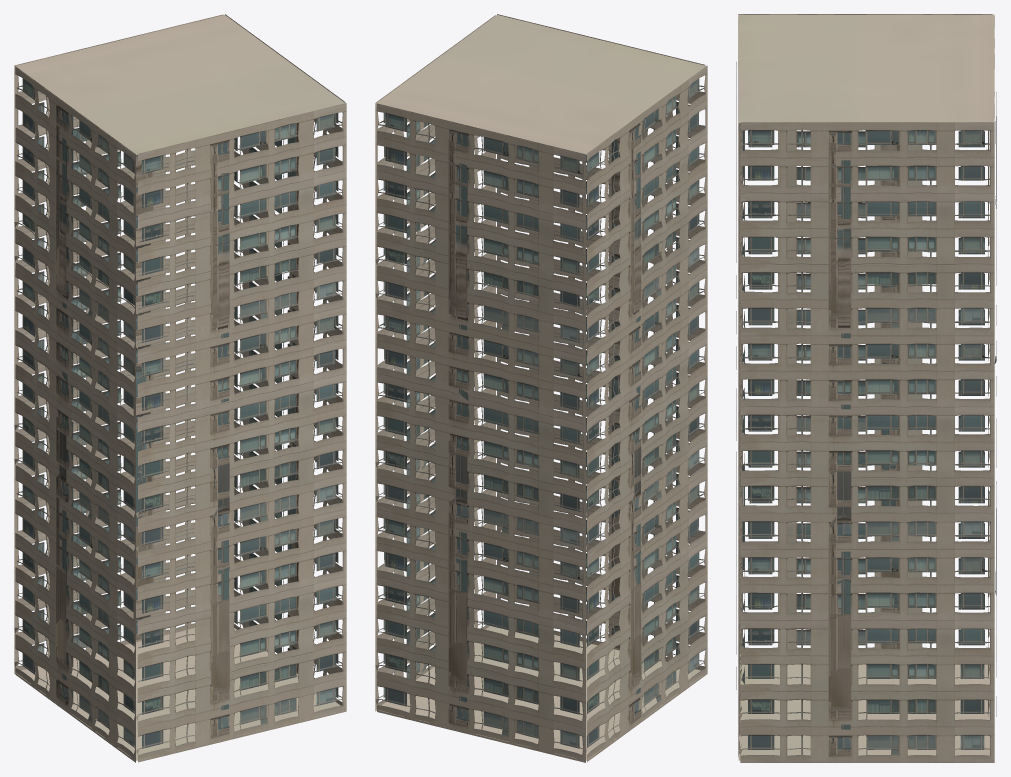
3 renders of one model, left to right at view 1: azimuth 30°, elevation 25°; view 2: azimuth 150°, elevation 25°; view 3: azimuth 270°, elevation 25°, orthographic. The views are drawn at different scales.
Bounding box in the file's own units: 1.1 × 3 × 1.1.
Materials: 2 (2 with a texture image).
